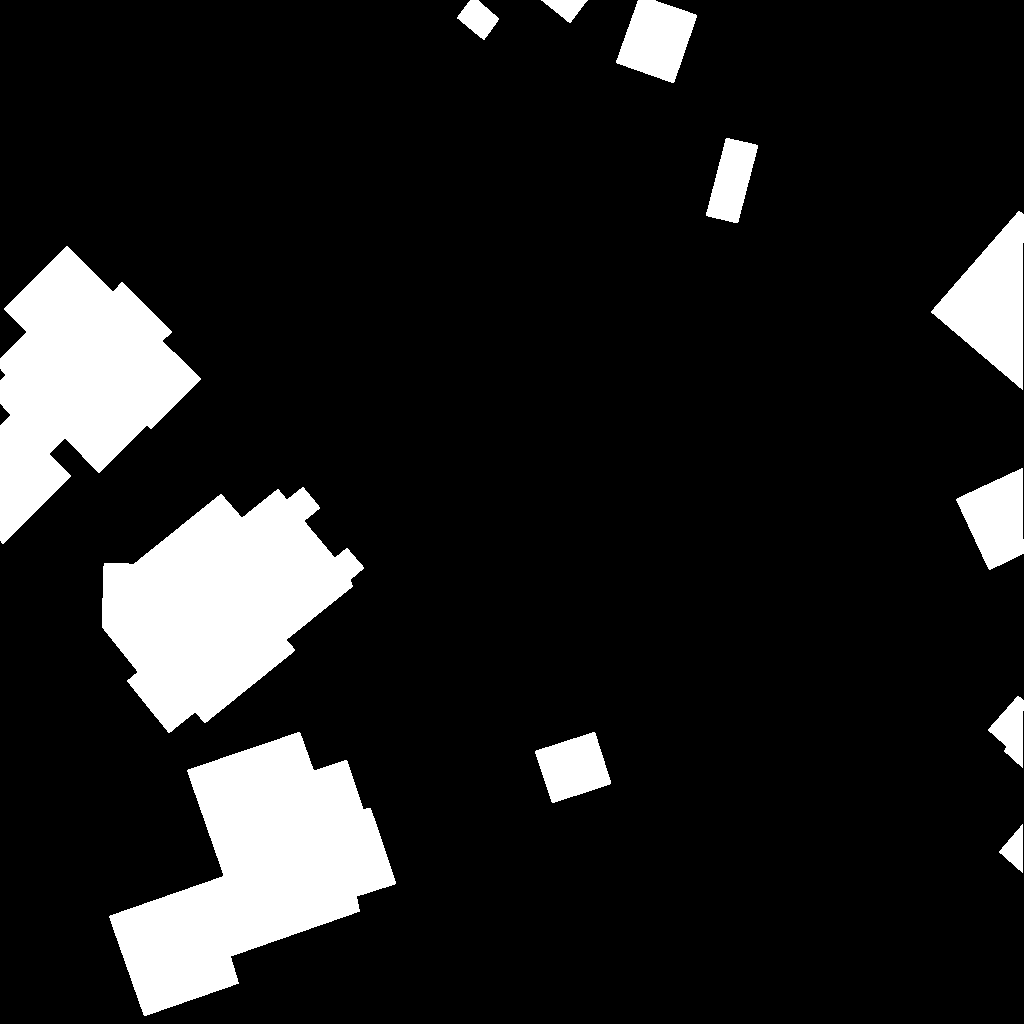building: (109, 732, 397, 1017), (102, 487, 365, 734), (0, 246, 202, 545), (931, 211, 1024, 391), (956, 468, 1024, 571), (616, 0, 698, 84), (988, 696, 1024, 874), (535, 732, 612, 804), (706, 138, 759, 224), (457, 0, 500, 41), (541, 0, 589, 24)
